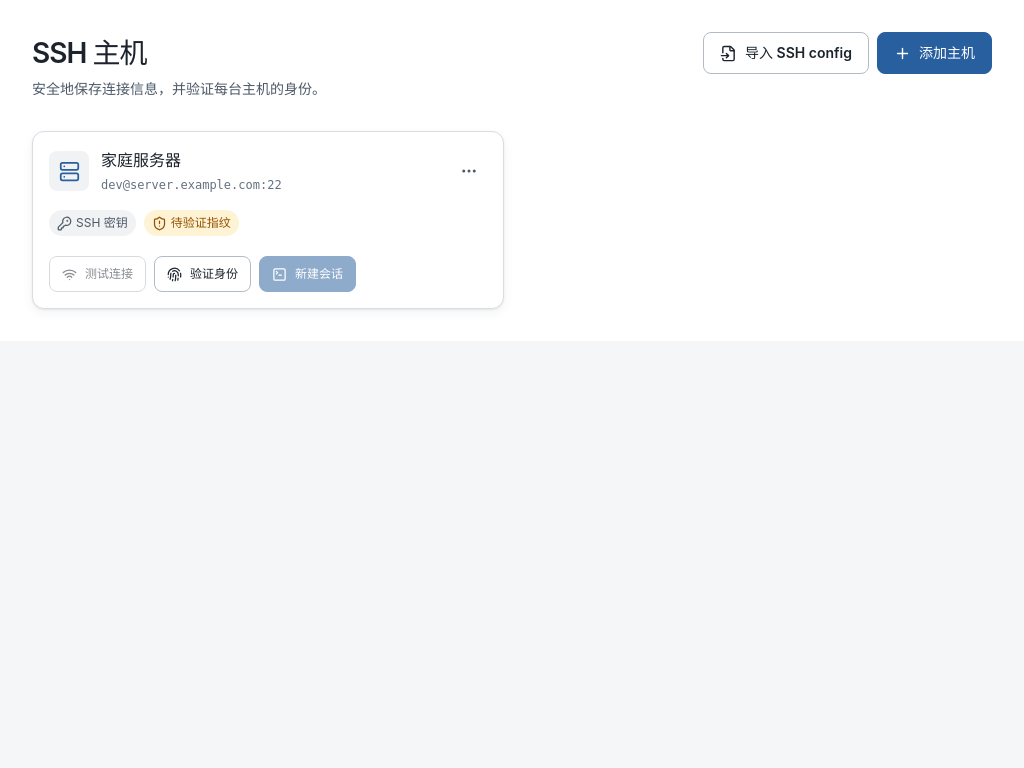
HostManager copy and identity verification › still exposes the explicit fingerprint confirmation flow
This screenshot has width=1024, height=768.
Click the button "验证身份". click: (202,274)
box: top-left (154, 256), bottom-right (251, 292)
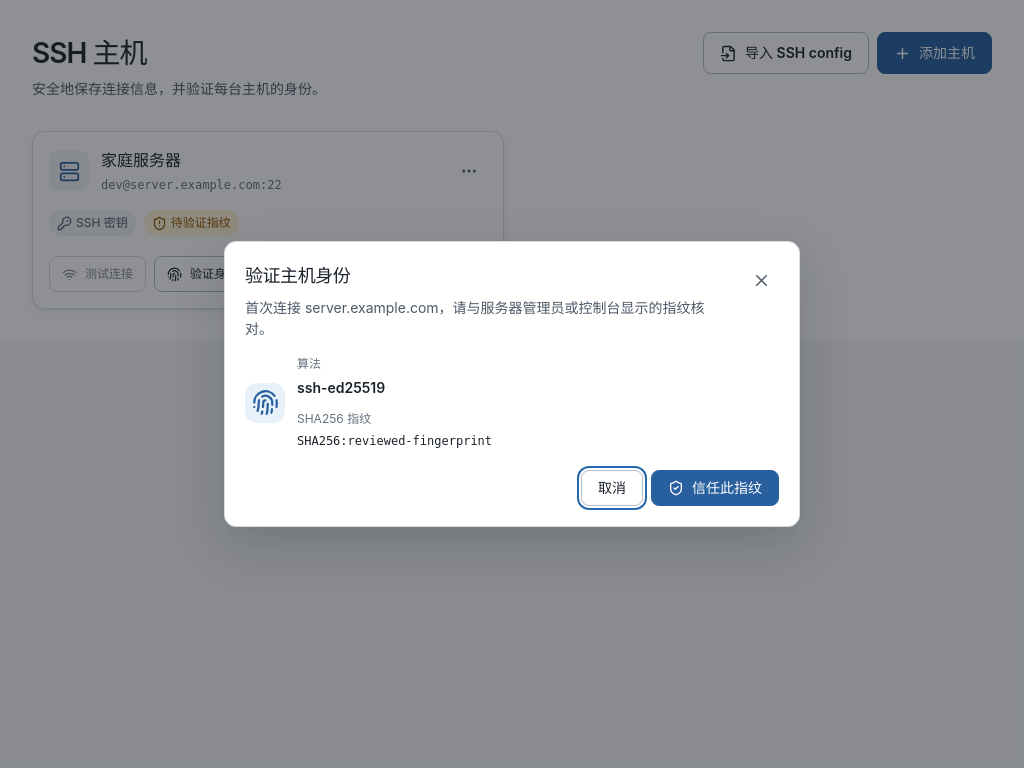
Expected: the dialog "验证主机身份" is shown, top-left (224, 241), bottom-right (800, 527)
Expected: the text "ssh-ed25519" is shown, top-left (297, 379), bottom-right (385, 396)
Expected: the text "SHA256:reviewed-fingerprint" is shown, top-left (297, 435), bottom-right (492, 447)
